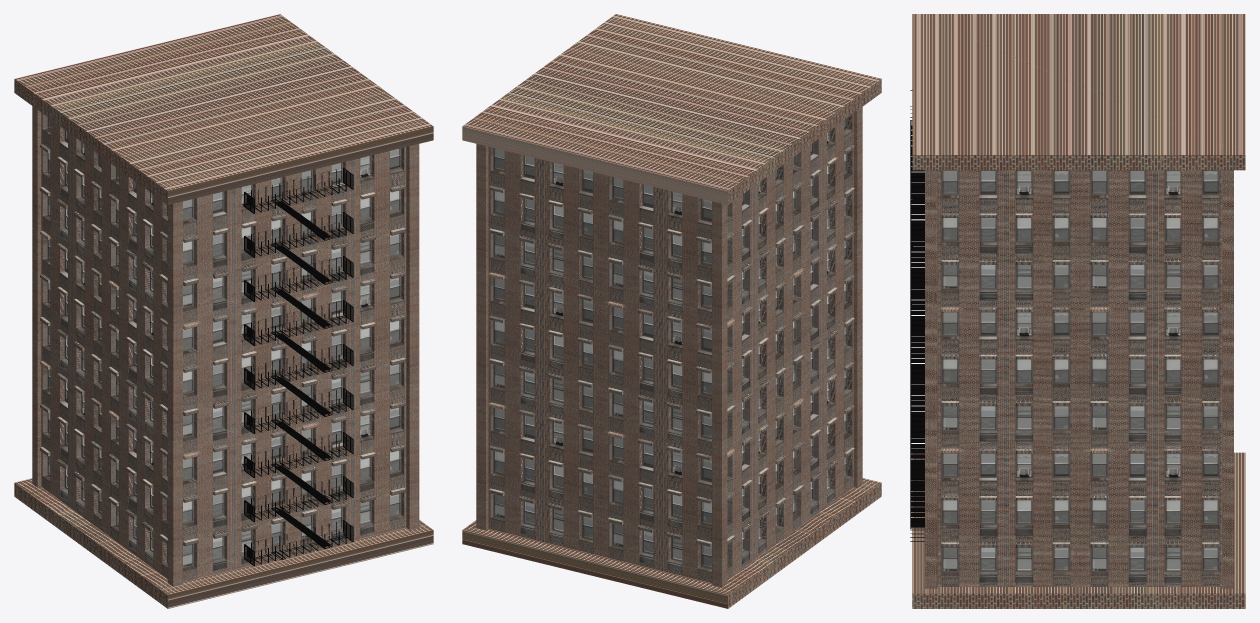
Rendered from building.glb.
3 views of the same model, side by side, from view 1: azimuth 30°, elevation 25°; view 2: azimuth 150°, elevation 25°; view 3: azimuth 270°, elevation 25° (orthographic). The views are drawn at different scales.
Visible parts, largest first — view 1: Cube.004; view 2: Cube.004; view 3: Cube.004.
Boxes of the visible parts, <box> form: Cube.004: <box>14,14,433,608</box>; Cube.004: <box>462,14,881,608</box>; Cube.004: <box>910,14,1245,608</box>.
Bounding box in the file's own units: 2.14 × 3.21 × 2.15.
5 materials, 4 textured.
